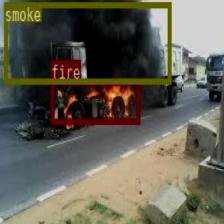fire: (50, 79, 139, 123)
smoke: (4, 2, 170, 83)
